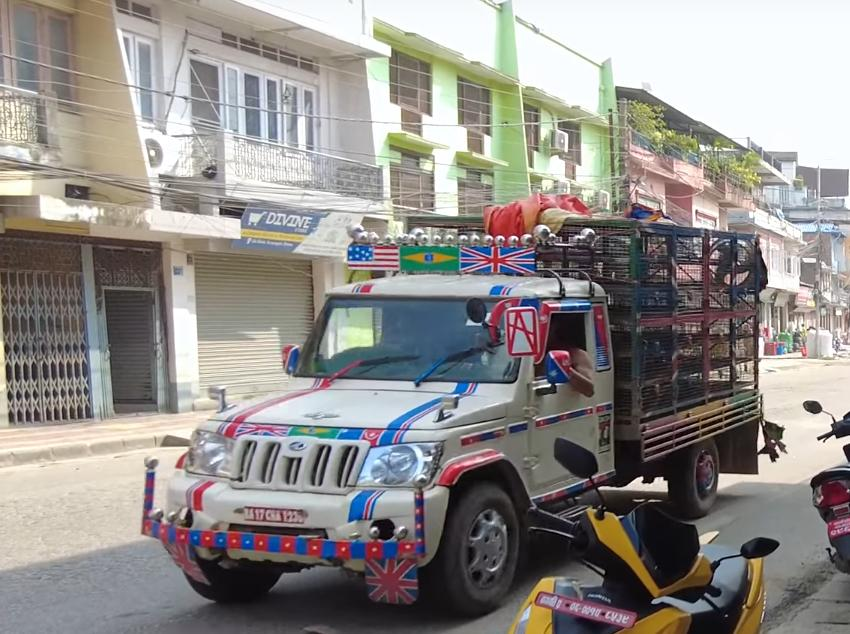scooter: (515, 409, 770, 634), (792, 386, 850, 597)
transport_vehicle: (127, 187, 776, 627)
